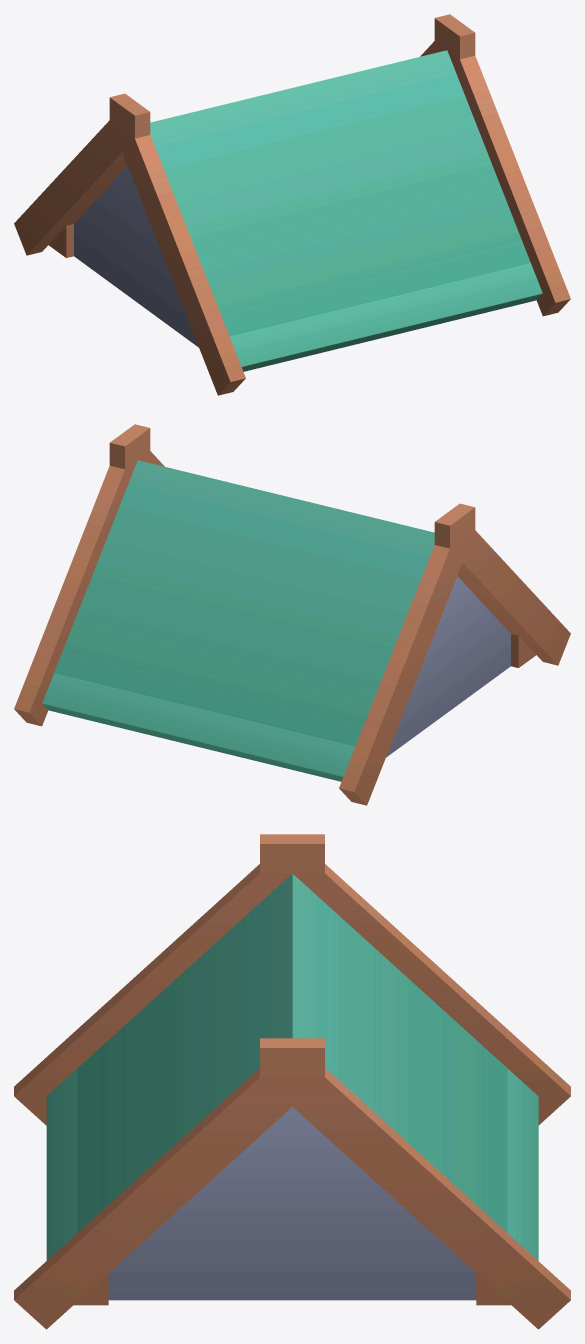
The model's file is roof-gable-detail.glb.
3 views of the same model, one above another, from view 1: azimuth 30°, elevation 25°; view 2: azimuth 150°, elevation 25°; view 3: azimuth 270°, elevation 25° (orthographic). The views are drawn at different scales.
Visible parts, largest first — view 1: roof-gable-detail; view 2: roof-gable-detail; view 3: roof-gable-detail.
Boxes of the visible parts, x1=… form: roof-gable-detail: x1=14, y1=14, x2=570, y2=395; roof-gable-detail: x1=14, y1=424, x2=570, y2=805; roof-gable-detail: x1=14, y1=834, x2=570, y2=1329.
Bounding box in the file's own units: 1.1 × 0.6768 × 1.21.
1 material, 1 textured.
